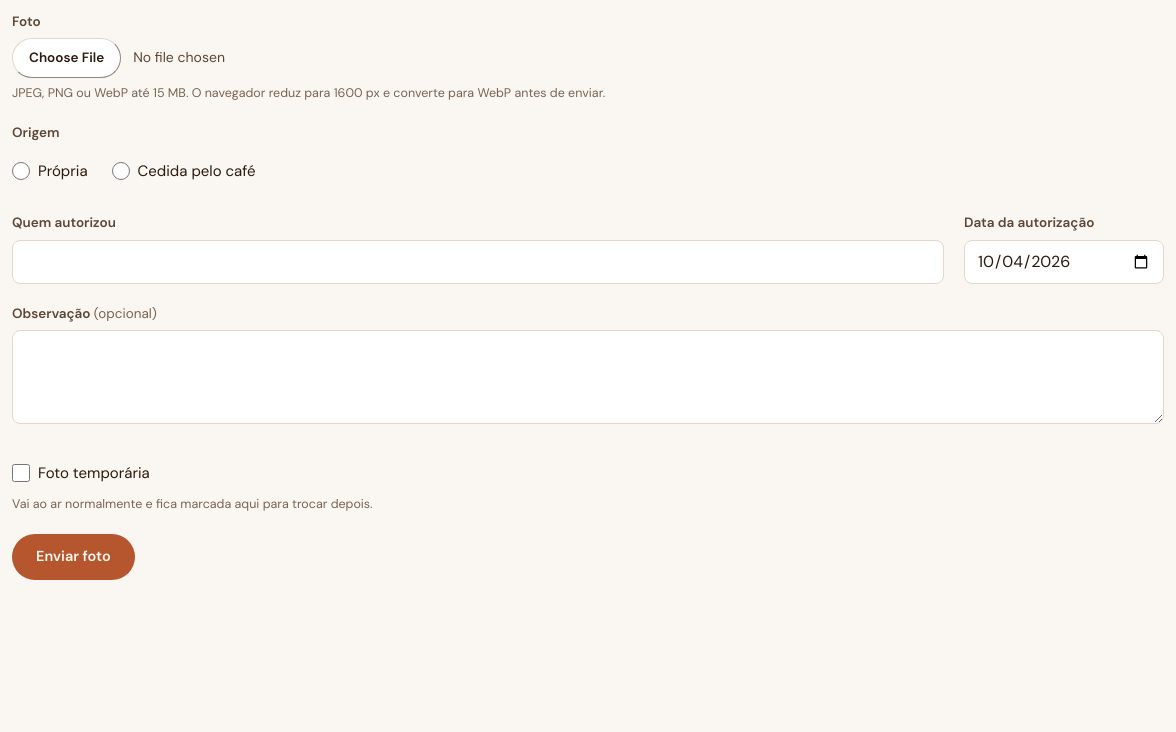
it: FotoUploadForm › sem foto, origem e quem autorizou, nada é enviado — e cada erro fica ligado ao campo
The image size is (1176, 732).
Click the button "Enviar foto". click: (73,556)
box: [12,534,135,580]
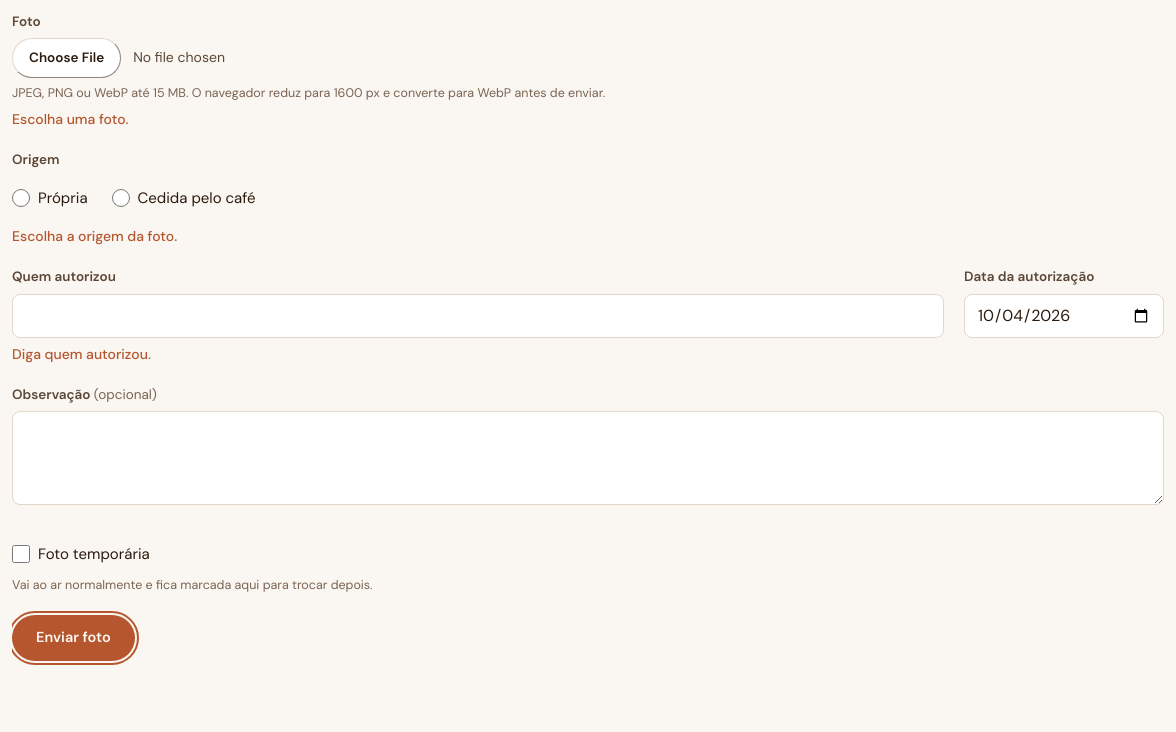
Now the text "Diga quem autorizou." is shown, box [12,344,151,362]
